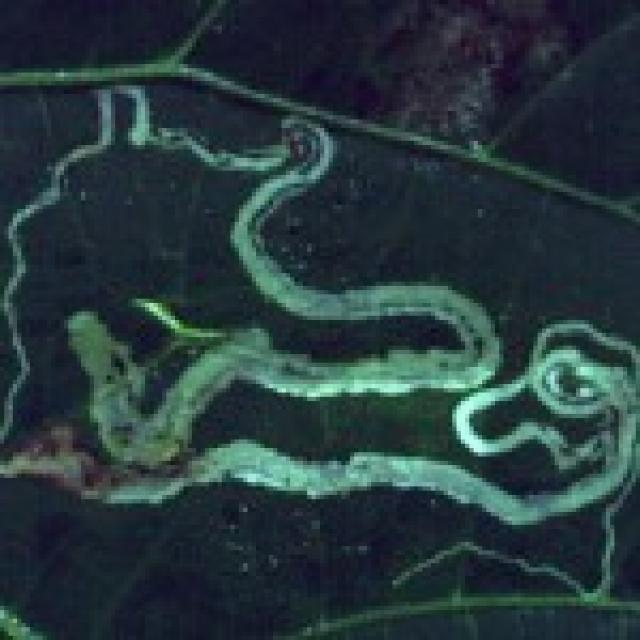Serpentine leafminer: (0, 75, 640, 606)
